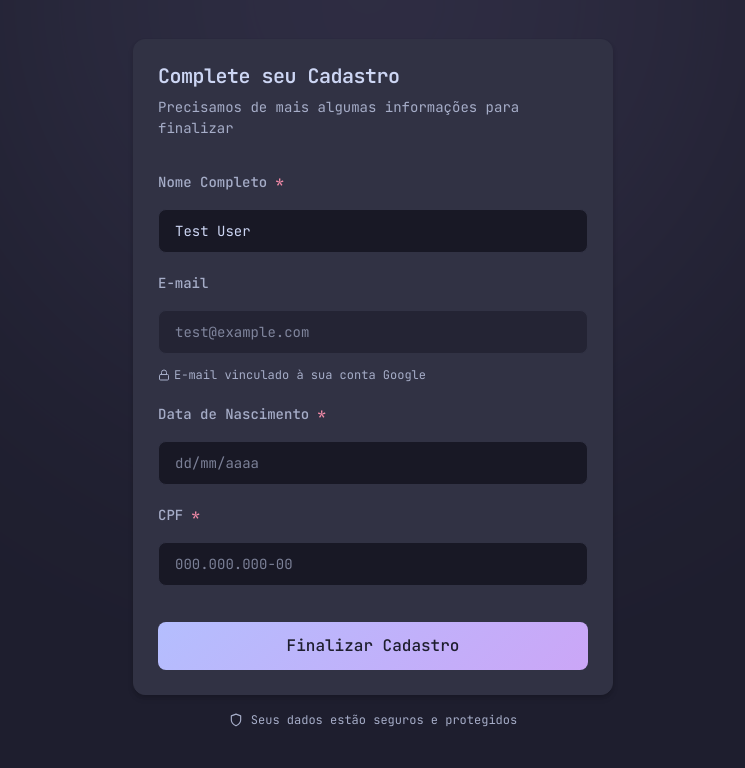
Test: RegisterCompleteView › tratamento de erros › deve exibir ícone SVG de erro
Replace the text in the field with id "name" with "Test" at (373, 231), box [158,209,588,253]
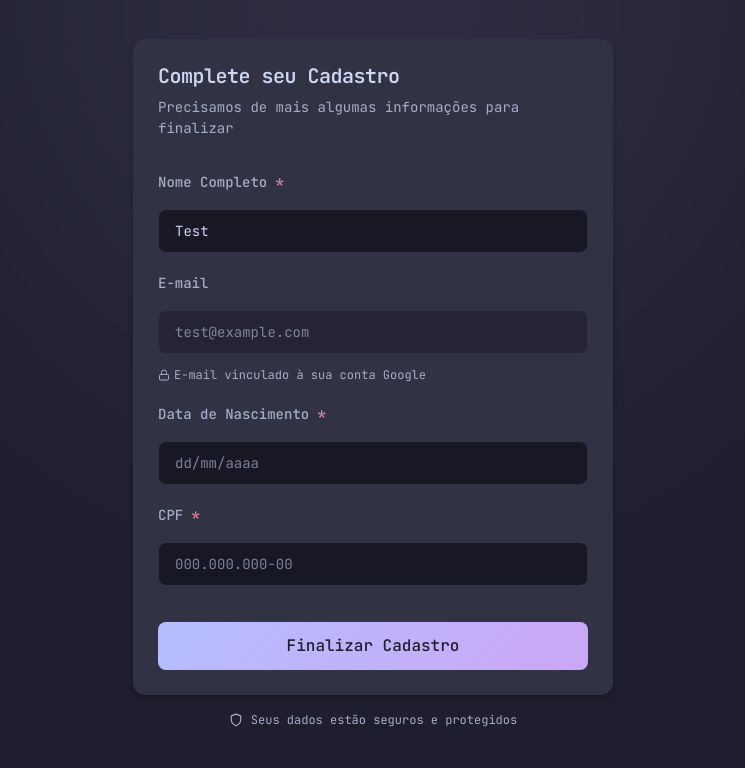
Type "15/05/1990" into the field with id "birth_date" at (373, 463), box [158,441,588,485]
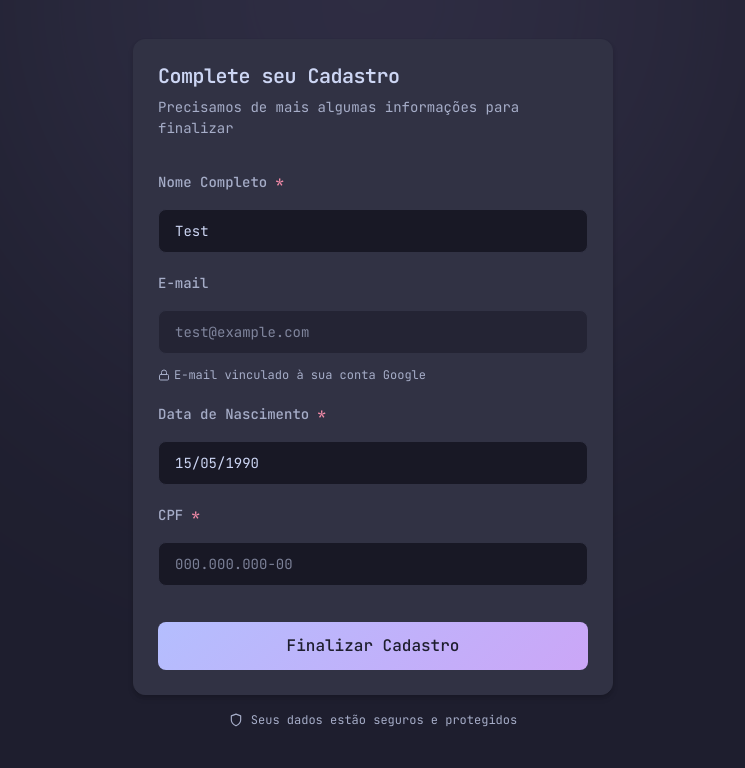
Type "123.456.789-00" into the field with id "cpf" at (373, 564), box [158,542,588,586]
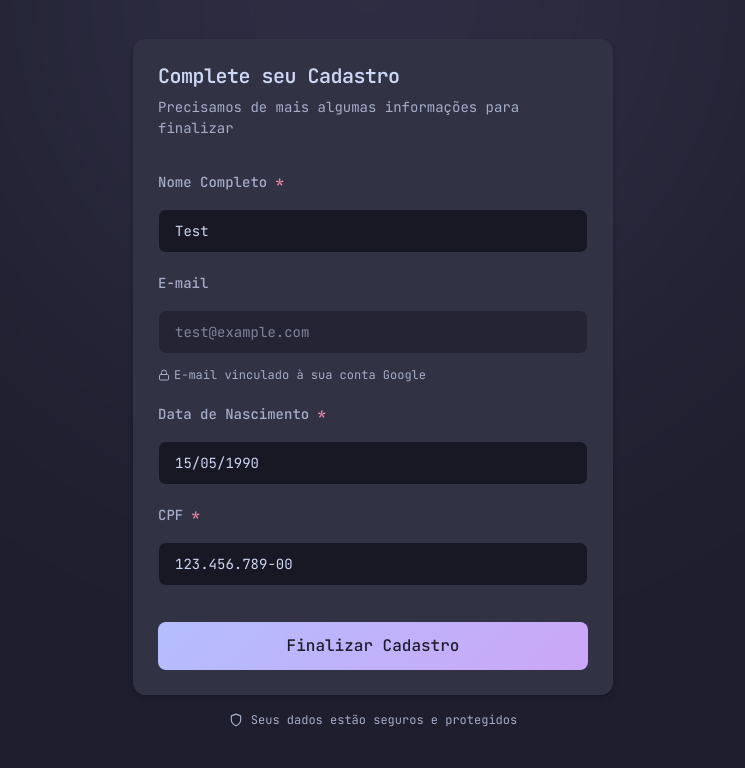
Submit the form, box [158,172,588,670]
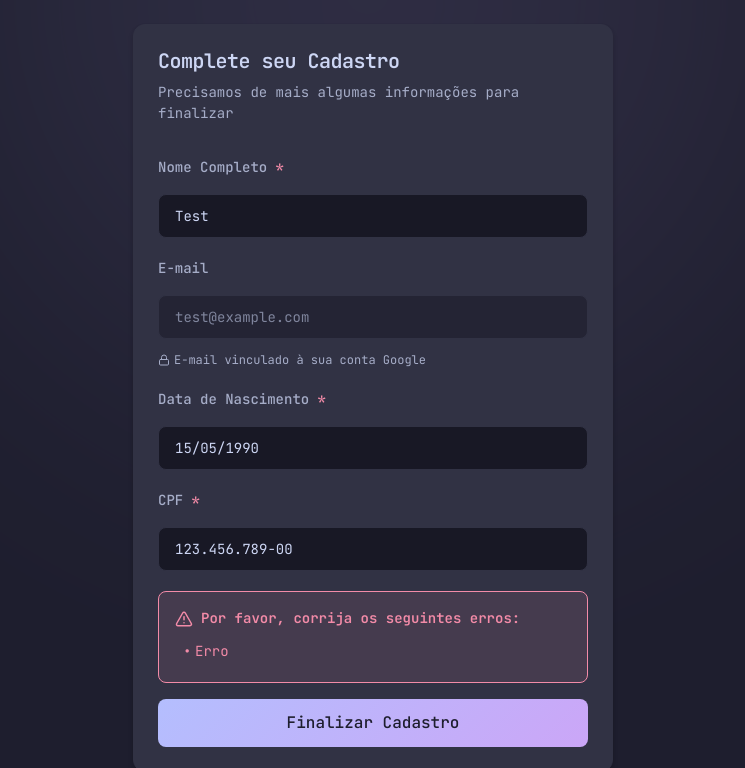
Expected: the icon with class "register-form__errors-icon" is shown, [175,610,193,628]
